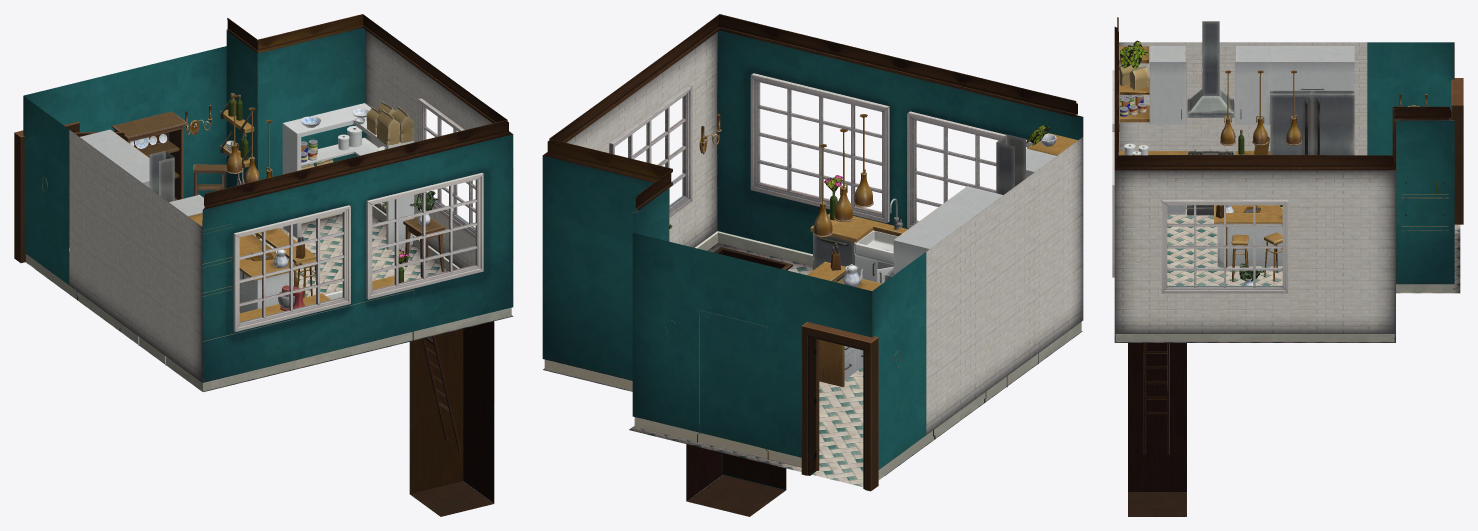
File: kitchen.obj
The picture shows the model from 3 angles, left to right: view 1: azimuth 30°, elevation 25°; view 2: azimuth 150°, elevation 25°; view 3: azimuth 270°, elevation 25°; orthographic projection. The views are drawn at different scales.
Parts seen in each view (by area): view 1: kitchen_walls_2107, kitchen_props_19441, kitchen_door_274; view 2: kitchen_walls_2107, kitchen_props_19441, kitchen_door_274; view 3: kitchen_walls_2107, kitchen_props_19441, kitchen_door_274, kitchen_plants_343.
Part boxes in pixels (box(x1,y1,x2,y2)): kitchen_walls_2107: box(23, 14, 513, 516); kitchen_props_19441: box(42, 93, 445, 365); kitchen_door_274: box(14, 122, 79, 263); kitchen_walls_2107: box(542, 14, 1083, 516); kitchen_props_19441: box(665, 114, 1077, 460); kitchen_door_274: box(801, 322, 878, 491); kitchen_walls_2107: box(1112, 17, 1460, 516); kitchen_props_19441: box(1119, 21, 1448, 285); kitchen_door_274: box(1451, 78, 1463, 224); kitchen_plants_343: box(1120, 40, 1264, 281).
Bounding box in the file's own units: 5.94 × 6.89 × 6.
